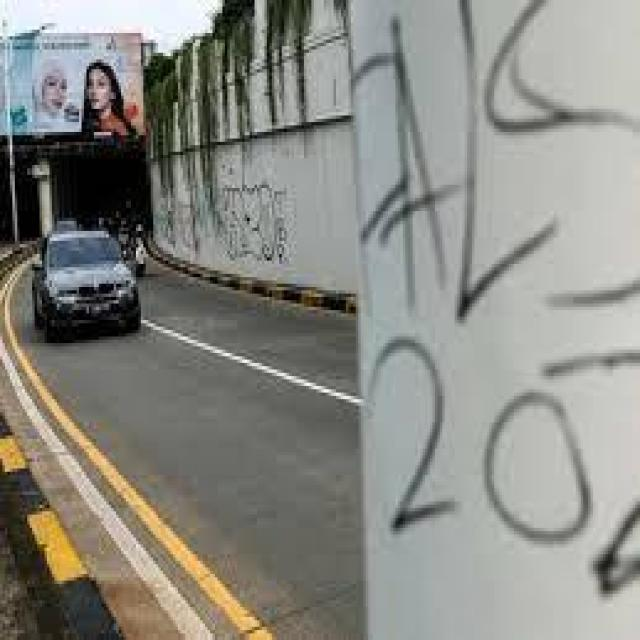nonspitting: (351, 0, 640, 600), (215, 182, 290, 266)
